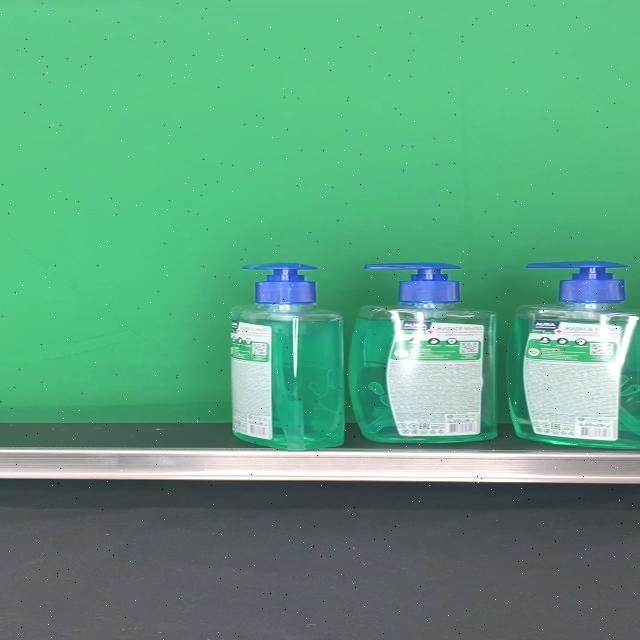Bottle: (348, 262, 497, 443), (504, 262, 640, 450), (229, 261, 344, 450)
Cap: (365, 262, 463, 304), (526, 262, 626, 303), (242, 262, 320, 304)
